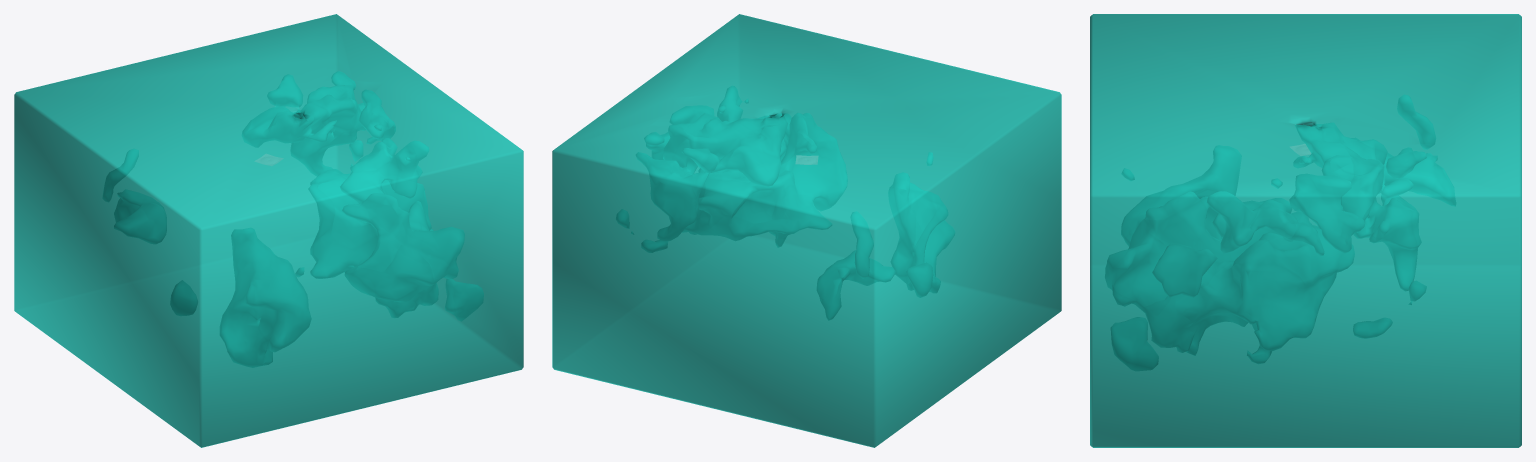
The picture shows the model from 3 angles, left to right: view 1: azimuth 30°, elevation 25°; view 2: azimuth 150°, elevation 25°; view 3: azimuth 270°, elevation 25°; orthographic projection. The views are drawn at different scales.
Visible parts, largest first — view 1: Liquid_Domain; view 2: Liquid_Domain; view 3: Liquid_Domain.
Part boxes in pixels (<box>): Liquid_Domain: <box>14,14,523,447</box>; Liquid_Domain: <box>552,14,1061,447</box>; Liquid_Domain: <box>1090,14,1521,447</box>.
Bounding box in the file's own units: 391 × 254 × 391.
